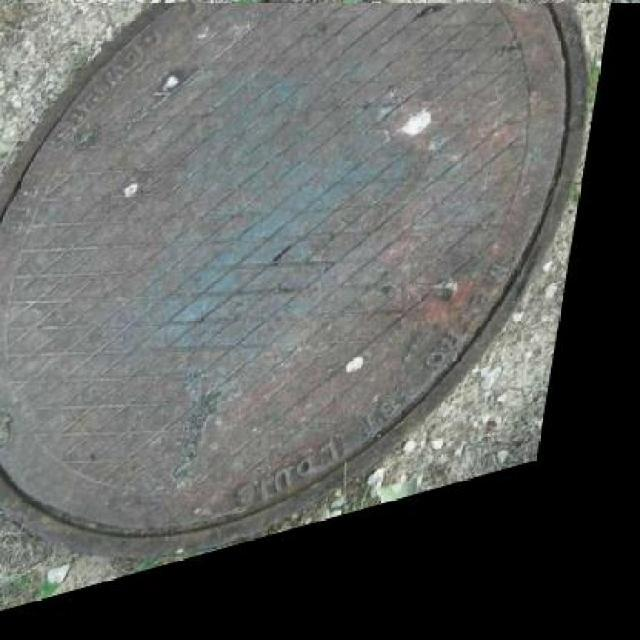Manhole: (0, 0, 591, 561)
